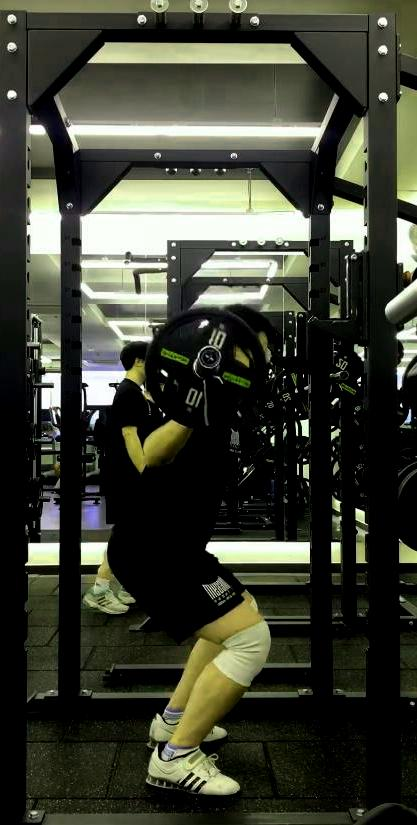Barbell: (196, 343, 222, 374)
